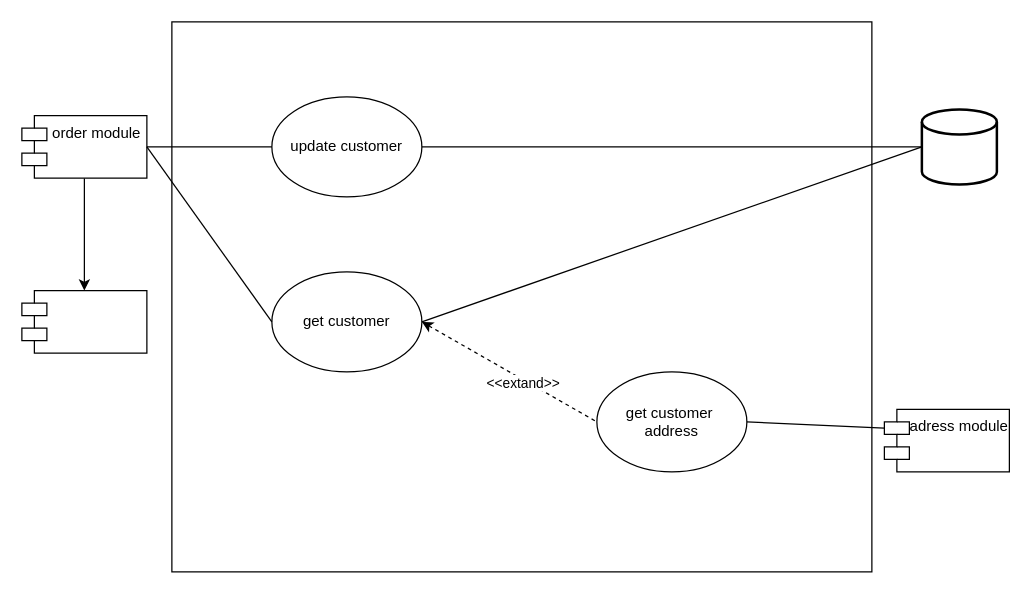
Image size: 1031x594. Some labels were removed from this diagram. Here are the shapes that lost their labels. From the top down, the centre of each, then its label:
At pixel 959 146: "customer db".
At pixel 84 321: "manger module".
